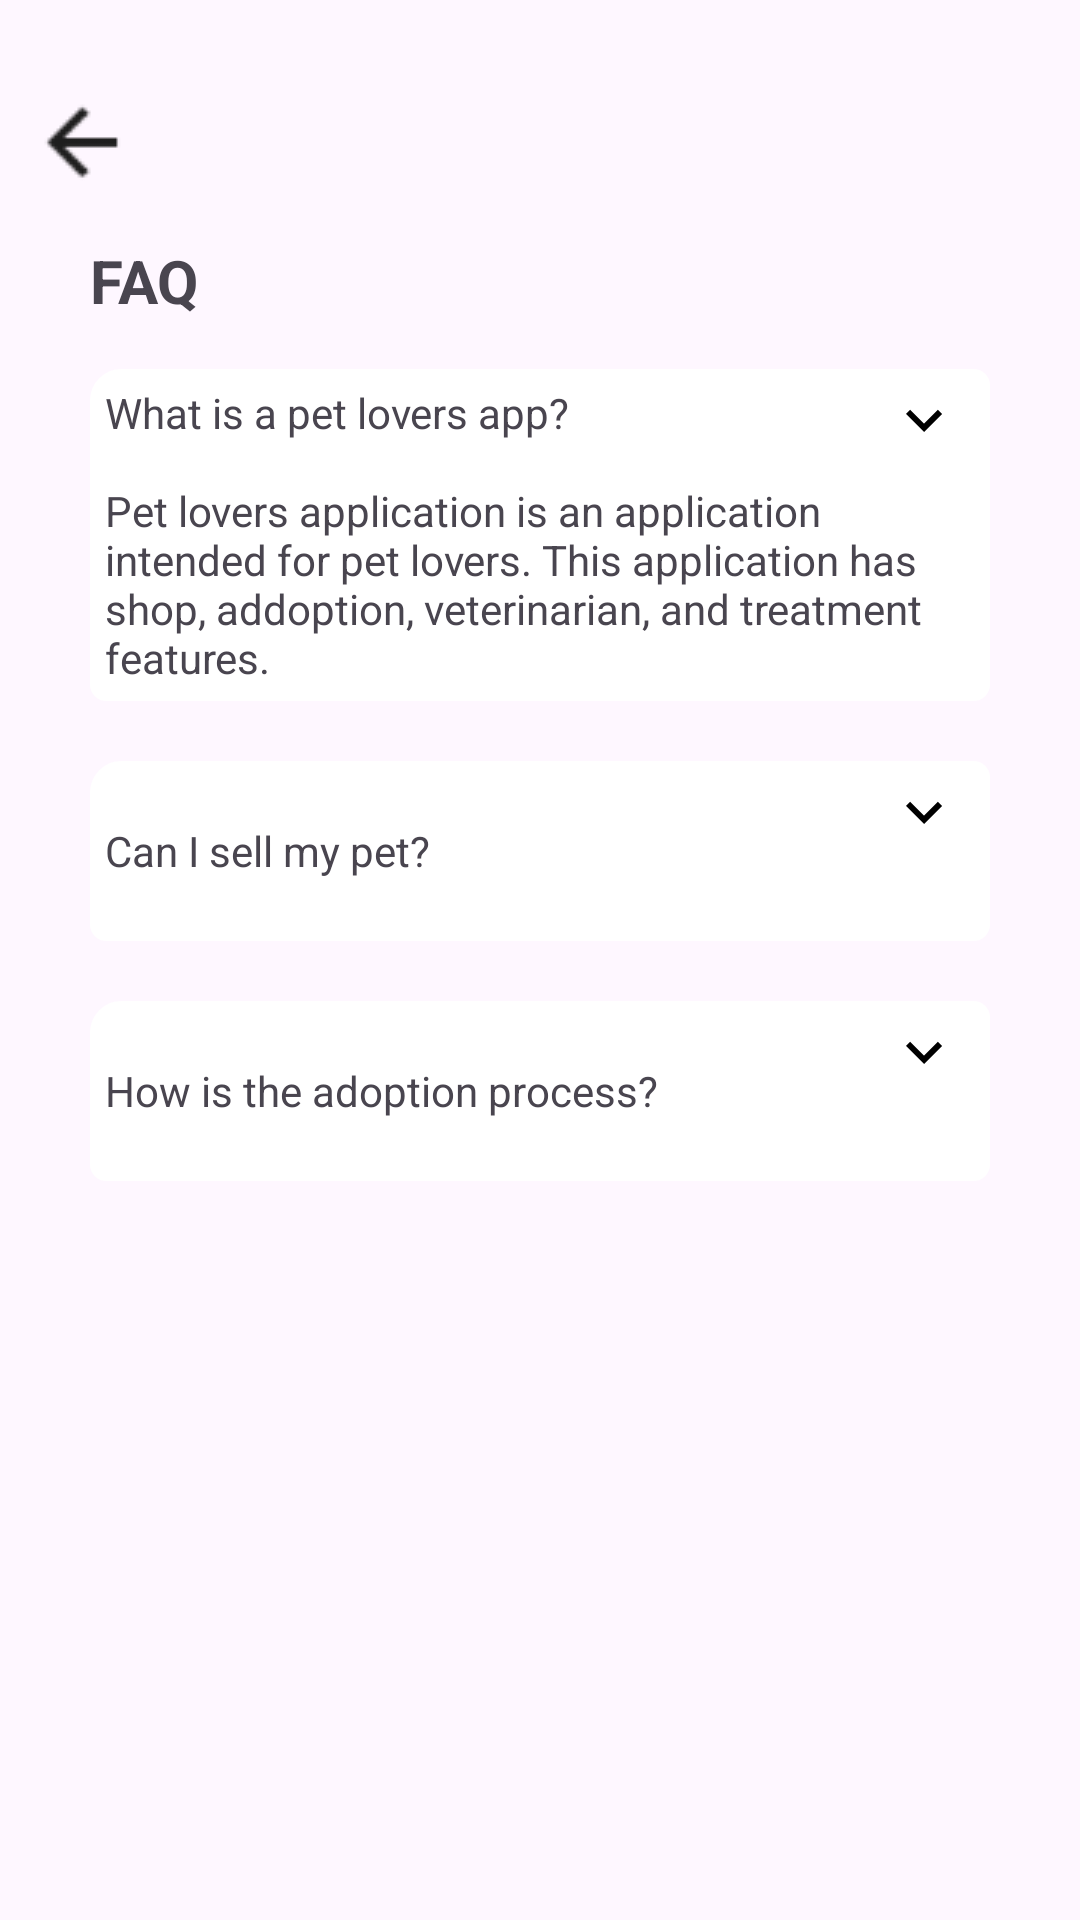

Where icons sit on this 1080*1920 app screen, as (x1, y1, x2, y2):
back: (47, 107, 118, 178)
expand: (906, 410, 942, 432), (906, 802, 942, 824), (906, 1042, 942, 1064)
